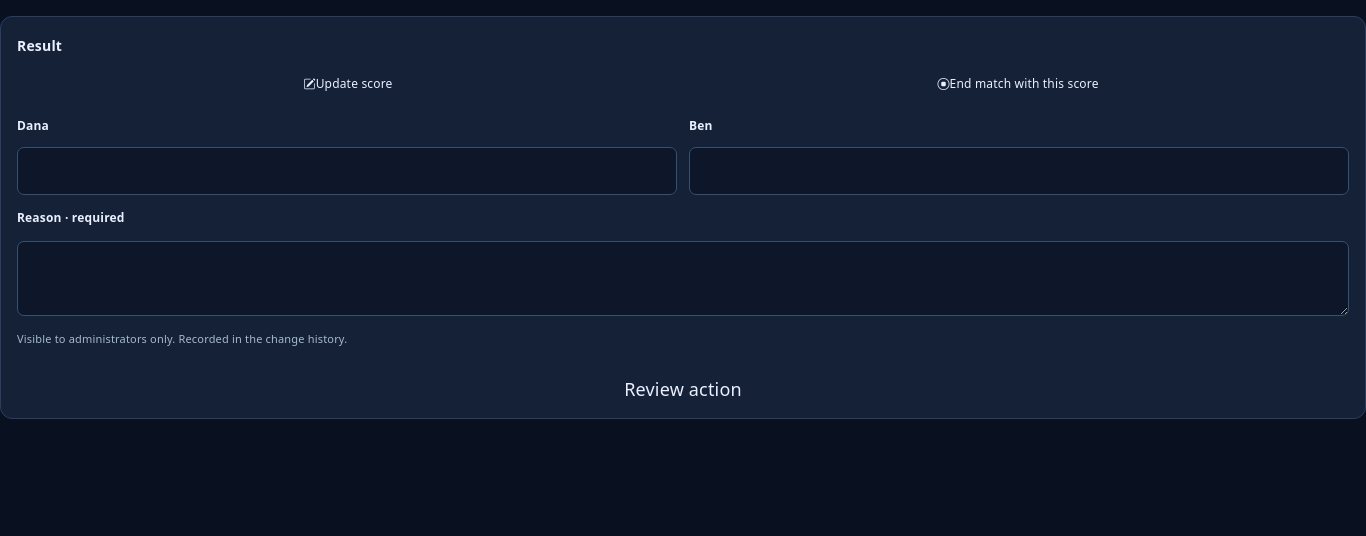
Match organizer actions › allows a tied score while it remains below the match target
Type "Scoreboard correction" into the text box labelled "Reason · required".
click(683, 279); type("Scoreboard correction")  # box [17, 242, 1349, 316]
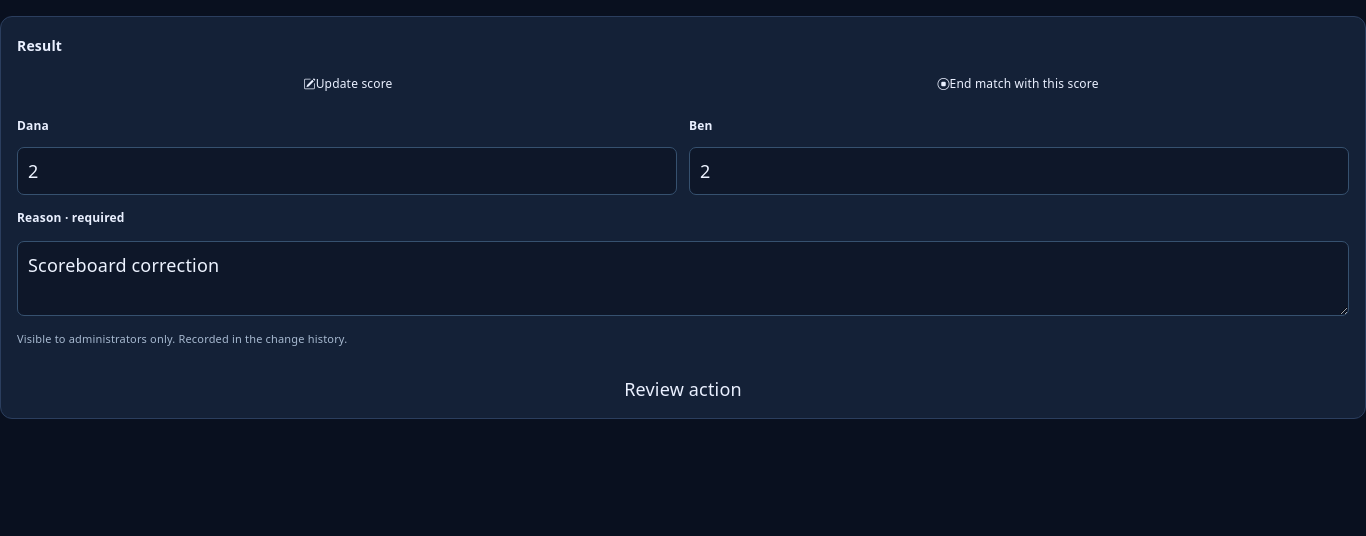
Submit the form
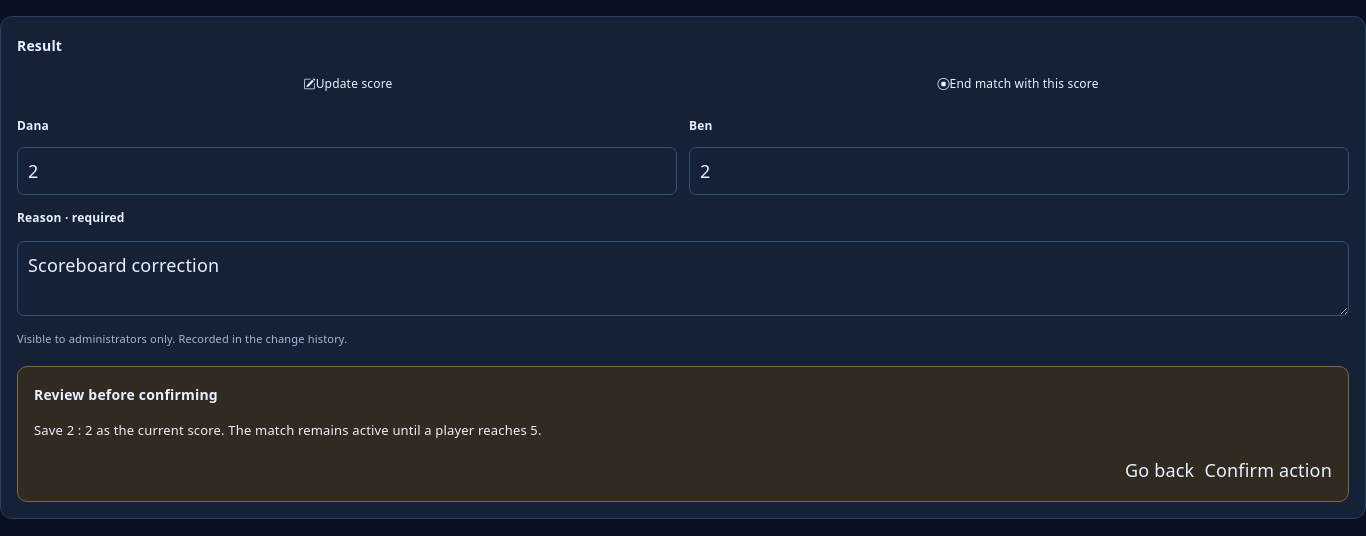
expect the element that starts with "Review before confirming" shows "match remains active": met, box [34, 420, 542, 438]
expect the element that starts with "Review before confirming" shows "2 : 2": met, box [34, 420, 542, 438]
